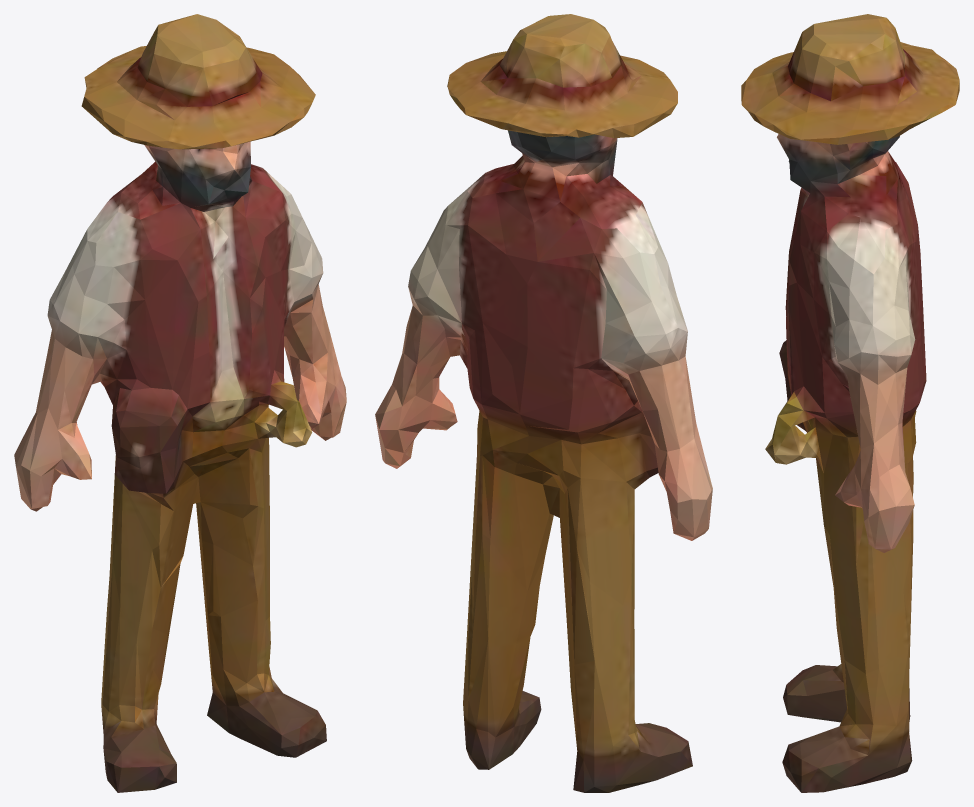
Rendered from habitant-loin.glb.
3 views of the same model, side by side, from view 1: azimuth 30°, elevation 25°; view 2: azimuth 150°, elevation 25°; view 3: azimuth 270°, elevation 25° (orthographic). The views are drawn at different scales.
Visible parts, largest first — view 1: habitant; view 2: habitant; view 3: habitant.
Part boxes in pixels (x1,y1,x2,y2): habitant: (14, 14, 346, 792); habitant: (375, 14, 712, 792); habitant: (741, 14, 959, 792).
Bounding box in the file's own units: 0.4739 × 1.01 × 0.2771.
1 material, 1 textured.
